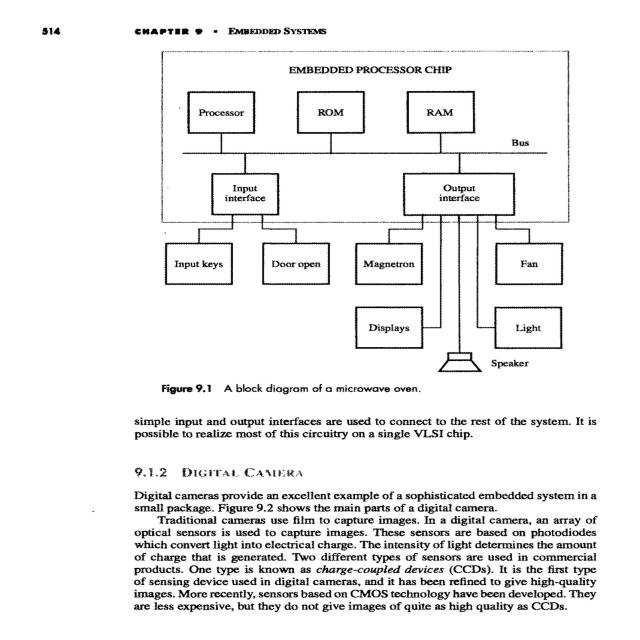diagram: (84, 41, 640, 398)
